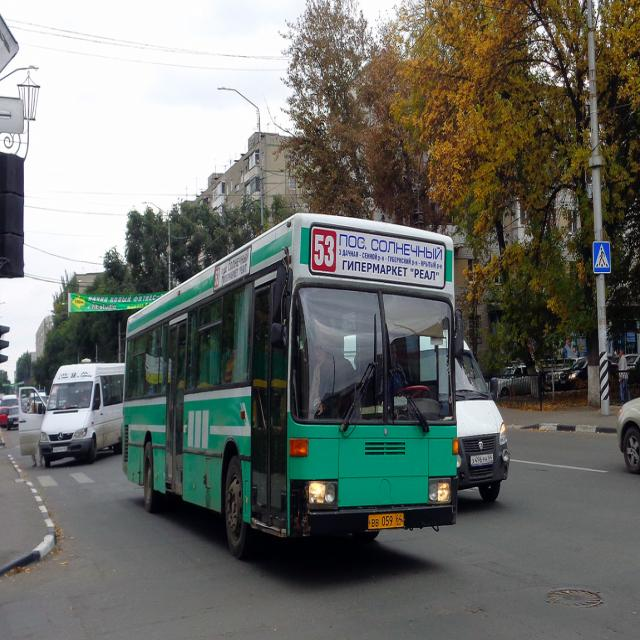number-of-bus: (314, 228, 338, 272)
